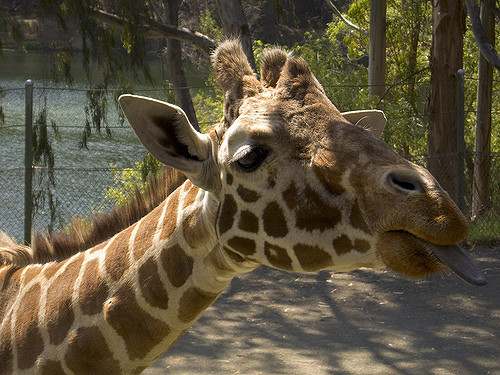giraffe: (60, 37, 456, 346)
